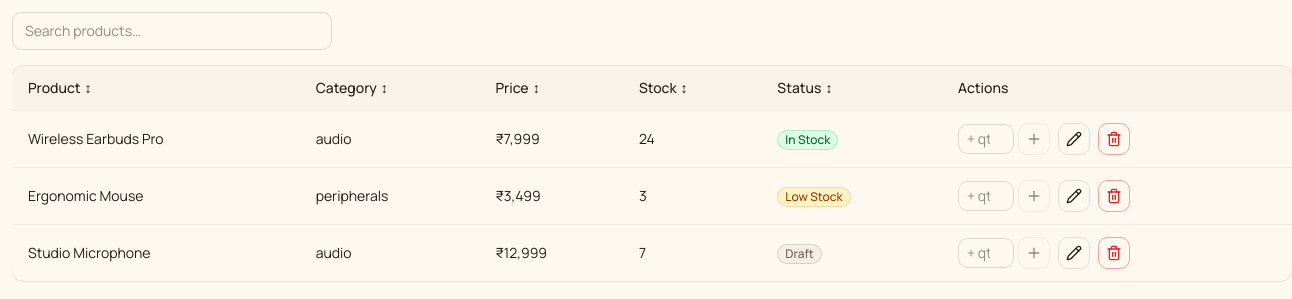
Test: InventoryTable › filters rows by search text
Expected: the text "Wireless Earbuds Pro" is shown, top-left (12, 110), bottom-right (300, 168)
Type "mouse" into the search field labelled "Search products…" at [172, 31], box top-left (12, 12), bottom-right (332, 50)
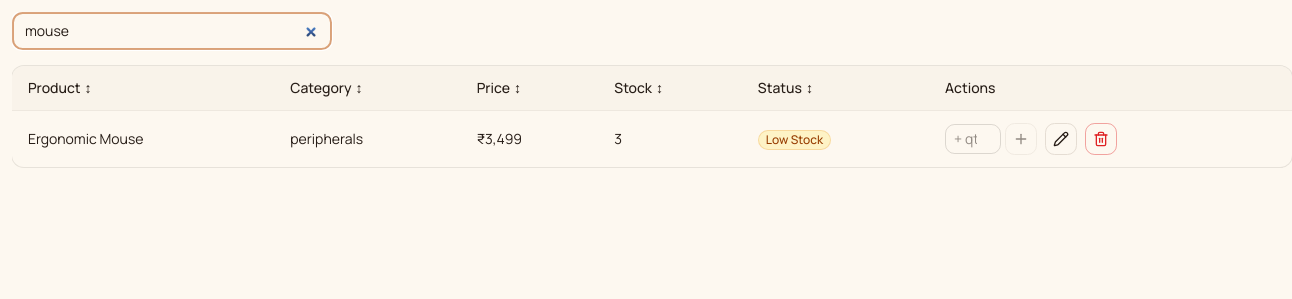
Expected: the text "Ergonomic Mouse" is shown, top-left (12, 110), bottom-right (274, 167)
Result: the text "Wireless Earbuds Pro" is gone
